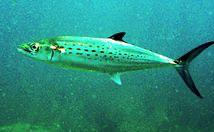Scombridae -Tunas-: (10, 25, 214, 103)
